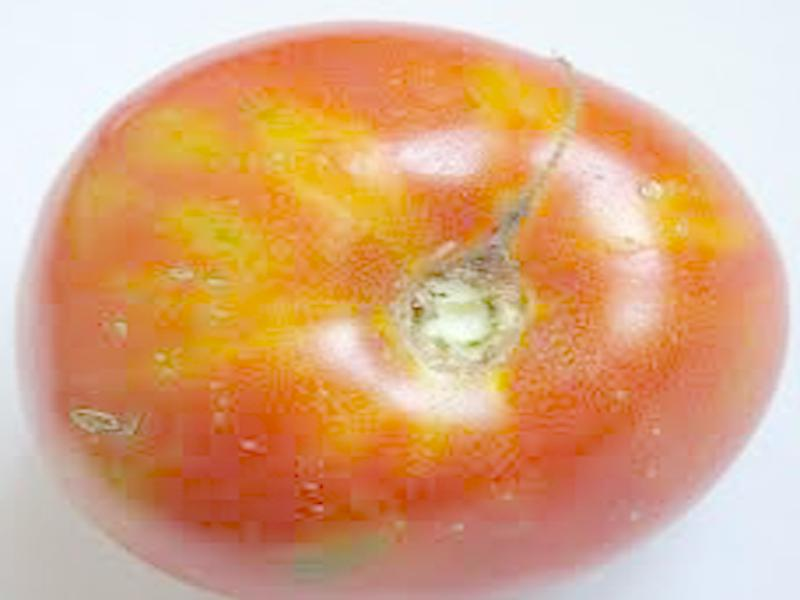Tomato: (20, 22, 792, 597)
